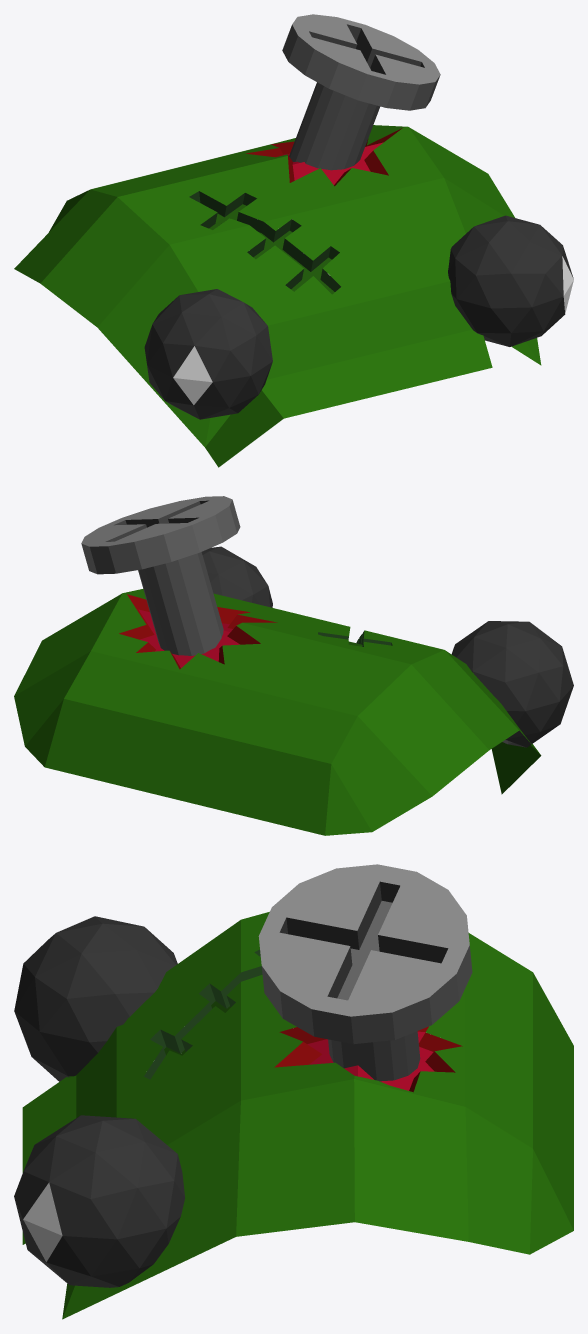
Rendered from Frankenstein.glb.
The picture shows the model from 3 angles, top to bottom: view 1: azimuth 30°, elevation 25°; view 2: azimuth 150°, elevation 25°; view 3: azimuth 270°, elevation 25°; orthographic projection. The views are drawn at different scales.
Parts seen in each view (by area): view 1: snakeBase.002, eyeR.001, eyeR.004, Cylinder.005, Cylinder.002; view 2: snakeBase.002, eyeR.001, Cylinder.005, Cylinder.002, eyeR.004; view 3: snakeBase.002, Cylinder.005, eyeR.004, eyeR.001, Cylinder.002.
Part boxes in pixels (x1,y1,x2,y2): snakeBase.002: [14, 125, 541, 467]; eyeR.001: [144, 289, 272, 419]; eyeR.004: [448, 215, 573, 346]; Cylinder.005: [282, 14, 440, 110]; Cylinder.002: [289, 82, 380, 170]; snakeBase.002: [14, 589, 541, 835]; eyeR.001: [451, 621, 573, 747]; Cylinder.005: [81, 496, 240, 574]; Cylinder.002: [138, 552, 223, 655]; eyeR.004: [201, 546, 272, 607]; snakeBase.002: [22, 912, 573, 1319]; Cylinder.005: [258, 864, 472, 1044]; eyeR.004: [14, 1115, 184, 1287]; eyeR.001: [14, 916, 177, 1081]; Cylinder.002: [328, 1031, 420, 1081].
Bounding box in the file's own units: 0.8576 × 0.5694 × 0.6873.
